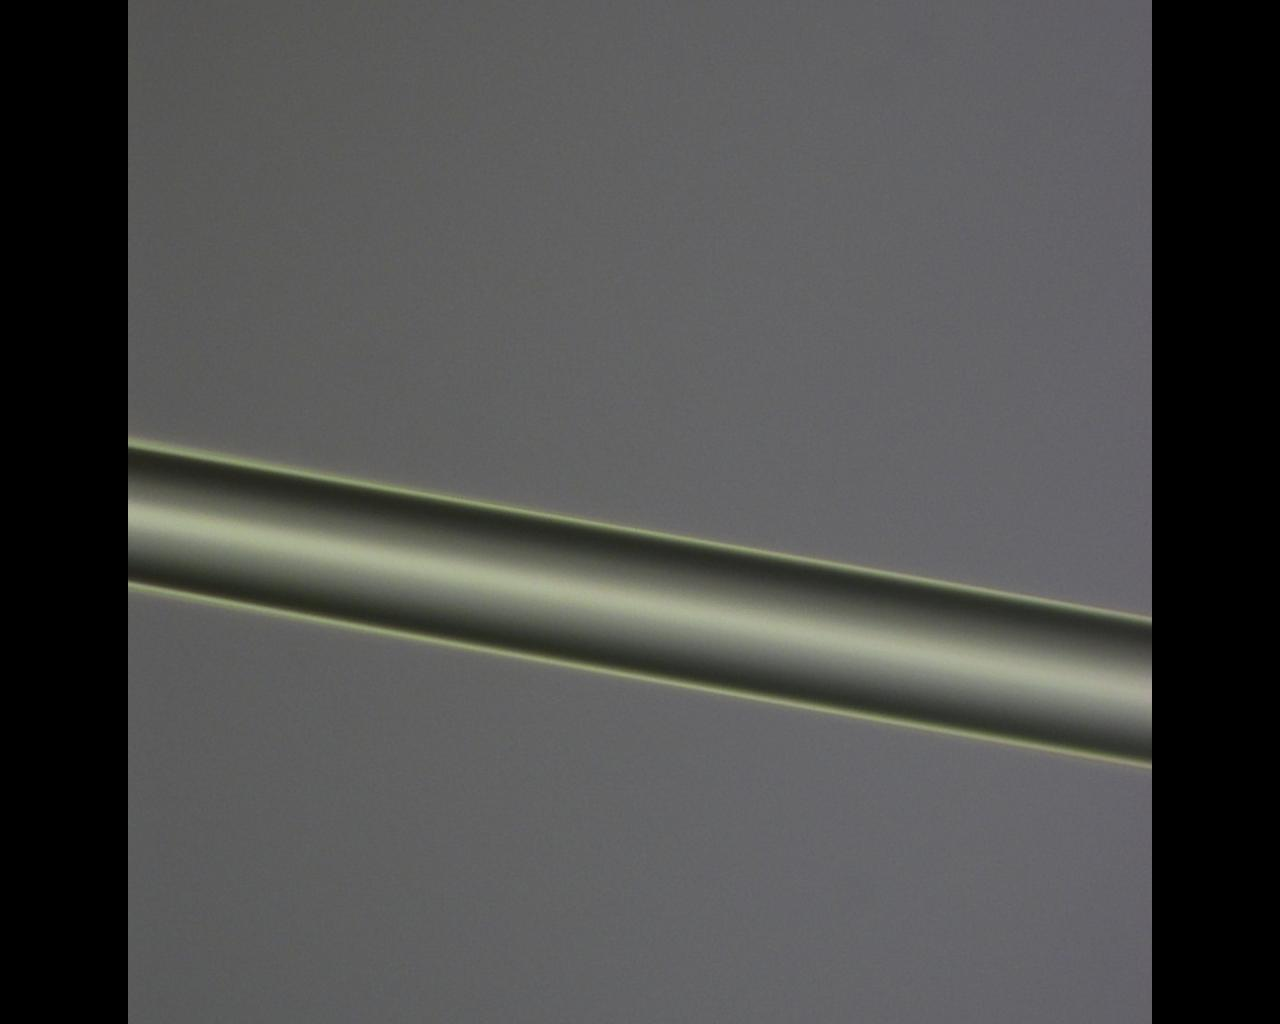fiber: (410, 449, 1280, 643), (0, 425, 396, 561), (1106, 757, 1280, 1024)
